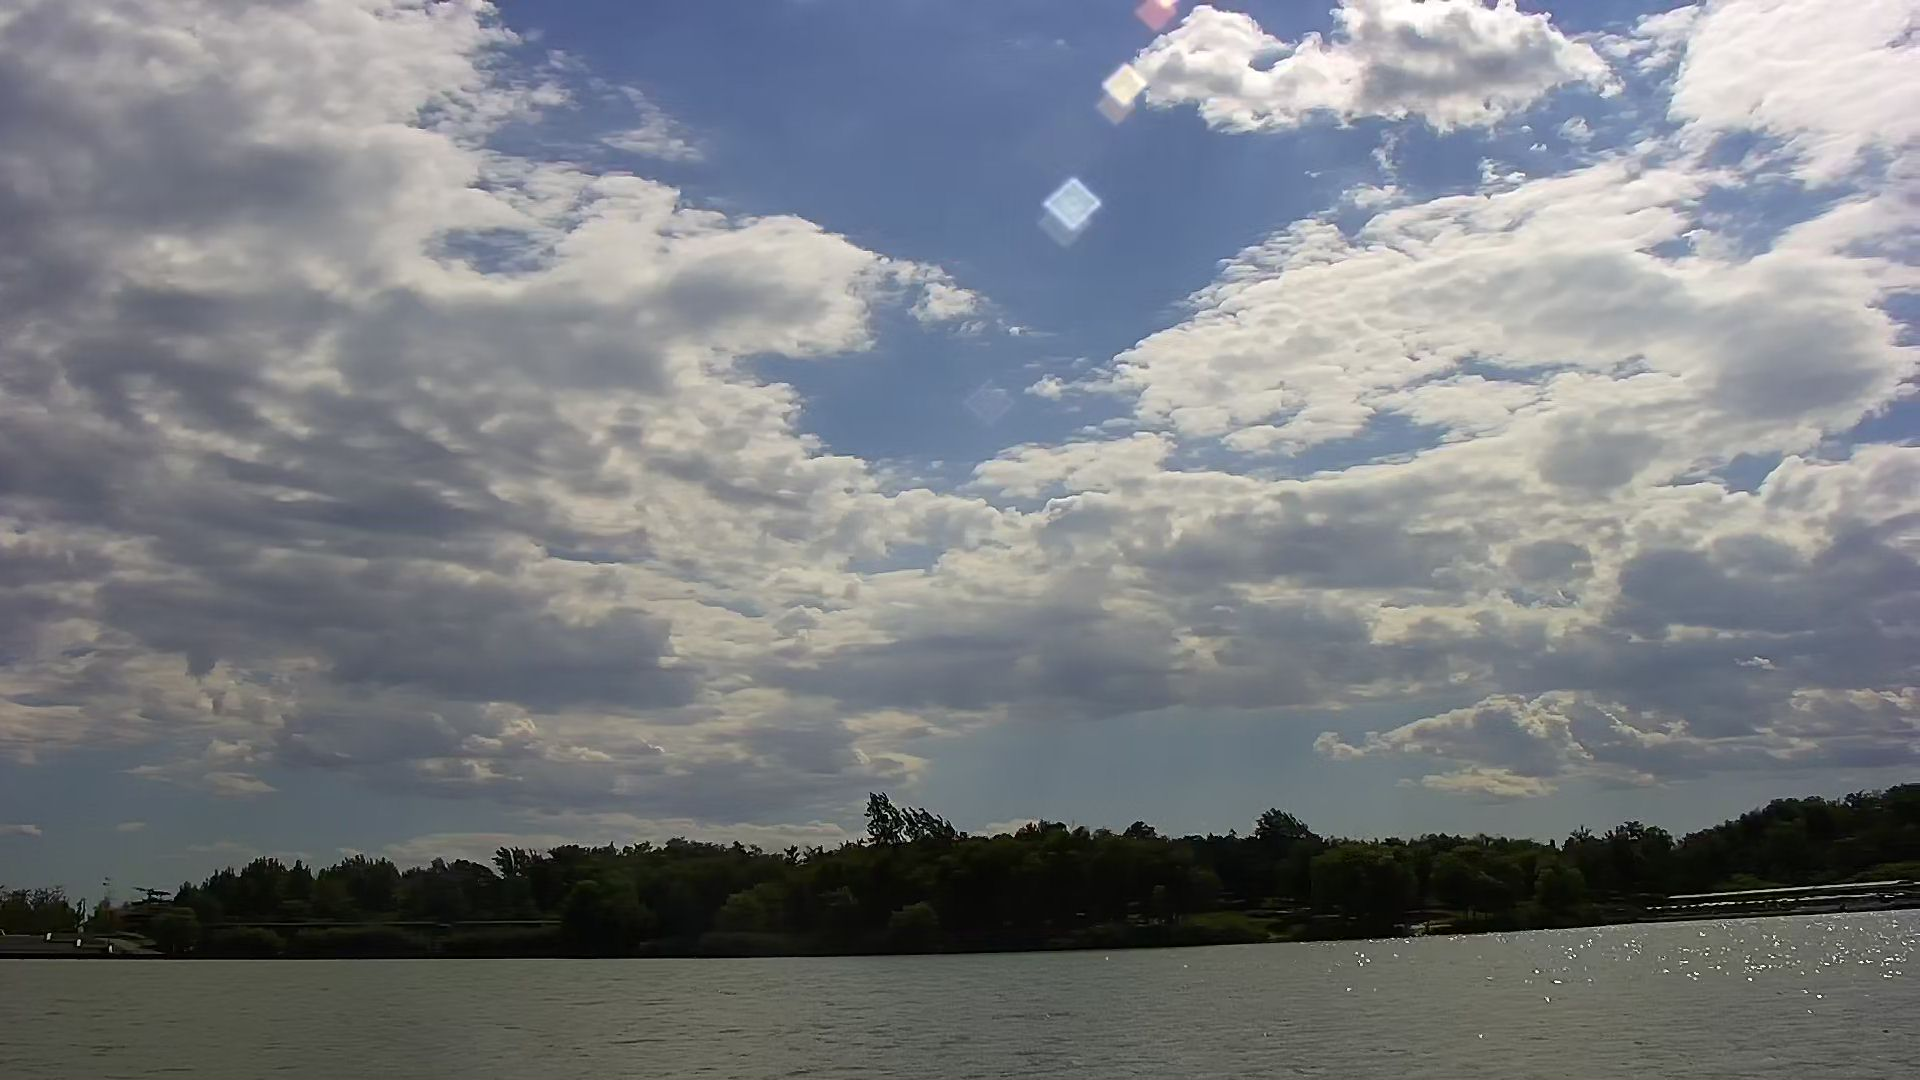harbor: (1646, 869, 1908, 928), (1, 922, 164, 961)
